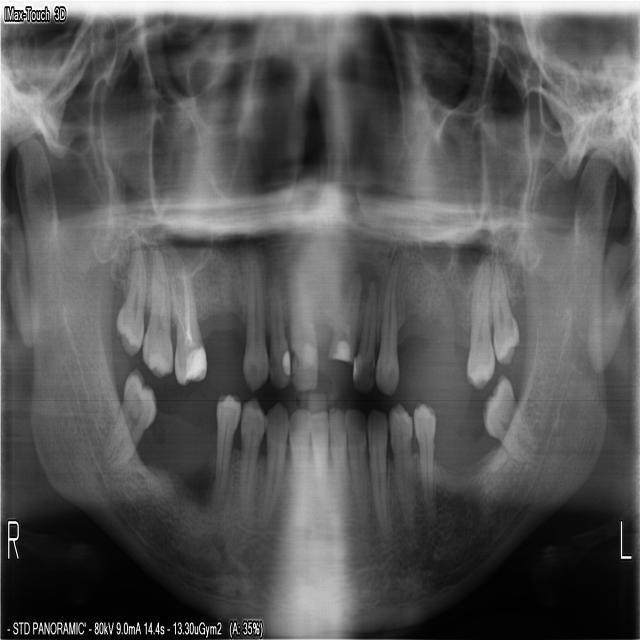LCD: (329, 404, 351, 529)
LCU: (349, 279, 380, 399)
LID: (288, 408, 308, 528), (309, 408, 328, 519)
LIU: (324, 273, 361, 367)
LMD: (481, 369, 536, 462), (387, 402, 416, 530), (412, 402, 437, 525)
LMU: (464, 259, 496, 395), (491, 273, 521, 367)
LPMD: (341, 405, 370, 522), (366, 414, 389, 533)
LPMU: (375, 253, 400, 398)
RCD: (211, 389, 240, 507)
RCU: (241, 250, 269, 390)
RID: (232, 398, 265, 520), (258, 404, 287, 528)
RIU: (288, 263, 319, 392), (267, 263, 292, 387)
RMD: (101, 364, 156, 473)
RMU: (167, 254, 208, 389), (139, 244, 172, 380), (111, 250, 146, 360)
